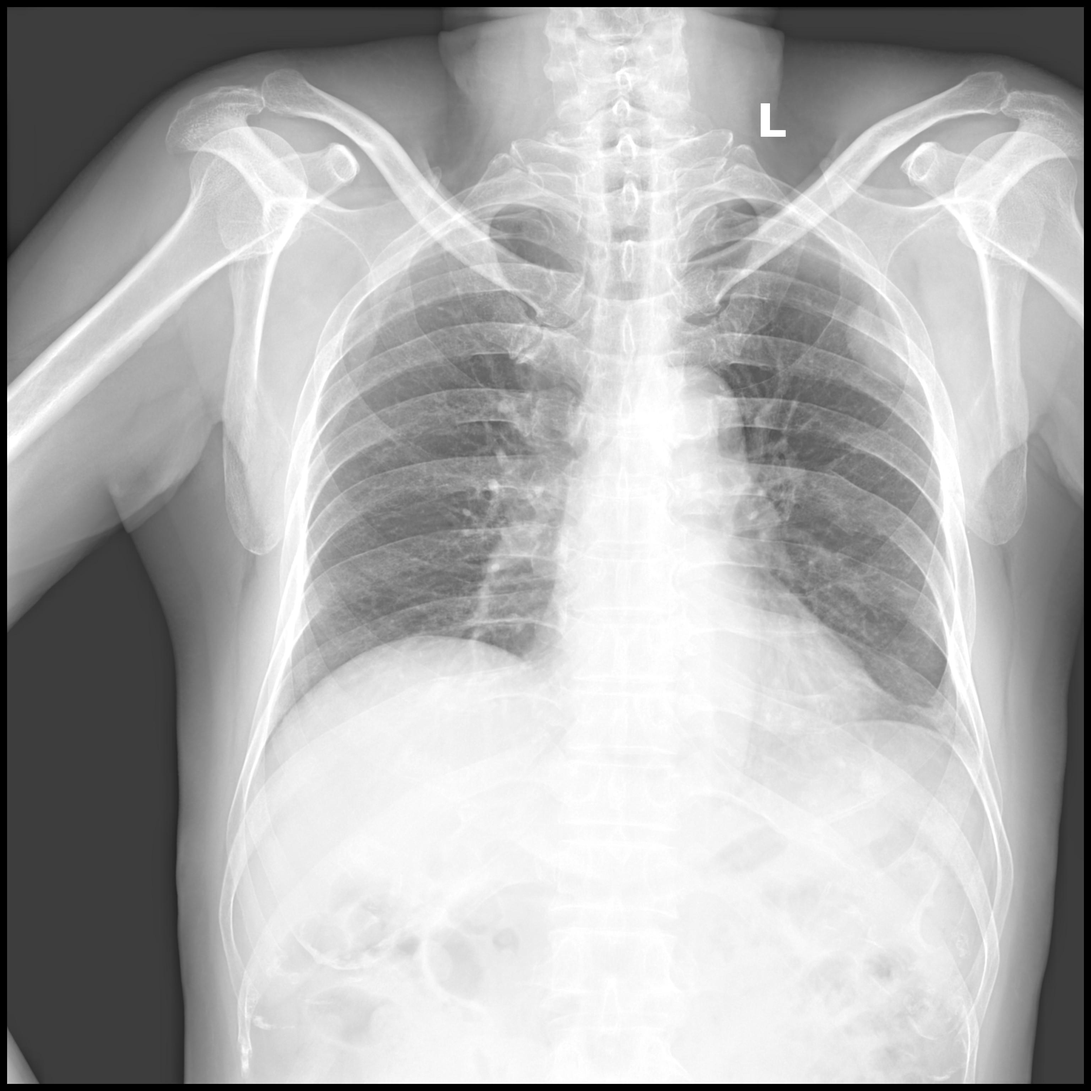Aortic enlargement: (636, 363, 748, 499)
Pleural thickening: (696, 197, 778, 213), (465, 201, 538, 214)
Pulmonary fibrosis: (473, 553, 494, 640)
